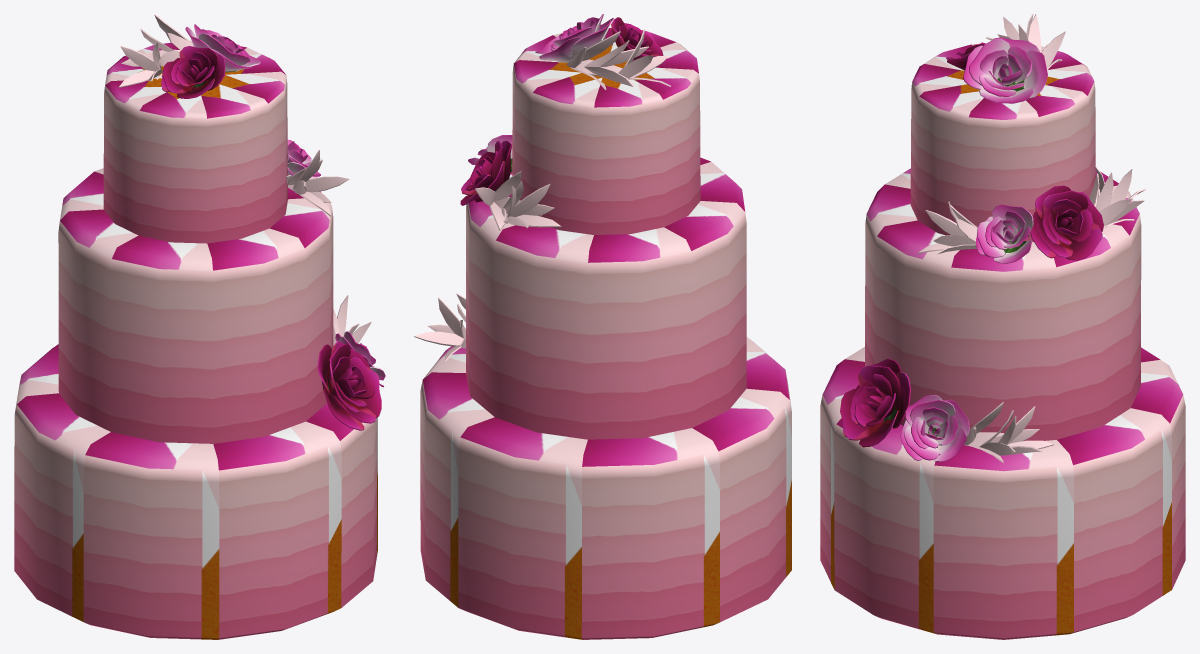
The model's file is Wedding_02_Whole.fbx.
The picture shows the model from 3 angles, left to right: view 1: azimuth 30°, elevation 25°; view 2: azimuth 150°, elevation 25°; view 3: azimuth 270°, elevation 25°; orthographic projection. The views are drawn at different scales.
Parts seen in each view (by area): view 1: Wedding_02_Whole; view 2: Wedding_02_Whole; view 3: Wedding_02_Whole.
Part boxes in pixels (box(x1,y1,x2,y2)): Wedding_02_Whole: box(14, 14, 385, 639); Wedding_02_Whole: box(414, 14, 791, 639); Wedding_02_Whole: box(820, 14, 1185, 639).
Bounding box in the file's own units: 123 × 192 × 119.
